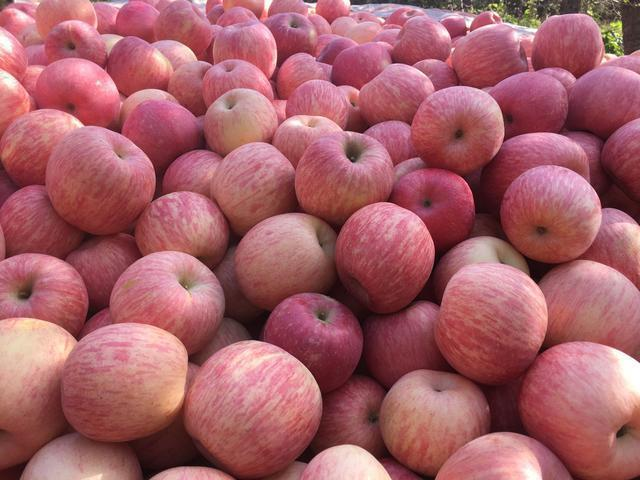apple: (181, 338, 322, 474), (513, 342, 640, 480), (61, 321, 187, 440), (434, 263, 550, 386), (108, 248, 227, 357), (47, 124, 155, 236), (1, 312, 79, 466), (379, 369, 494, 472), (333, 201, 434, 315), (539, 259, 640, 361), (260, 290, 360, 392), (233, 213, 338, 310), (498, 166, 600, 265), (294, 131, 395, 224), (485, 129, 588, 218), (410, 83, 504, 174), (209, 143, 297, 237), (132, 191, 230, 271), (2, 251, 87, 338), (364, 300, 447, 389), (390, 168, 474, 248), (3, 107, 85, 184), (1, 186, 87, 259), (33, 57, 121, 127), (122, 100, 203, 173), (315, 374, 386, 454), (574, 208, 640, 293), (435, 236, 530, 294), (202, 88, 280, 156), (568, 66, 640, 138), (451, 22, 531, 86), (488, 71, 567, 135), (531, 11, 604, 77), (358, 64, 435, 126), (107, 35, 176, 97), (273, 111, 343, 168), (201, 59, 274, 109), (213, 21, 277, 77), (287, 77, 348, 132), (42, 20, 106, 69), (154, 2, 212, 56), (391, 18, 451, 67), (162, 148, 223, 194), (262, 12, 319, 61), (1, 69, 33, 137)
